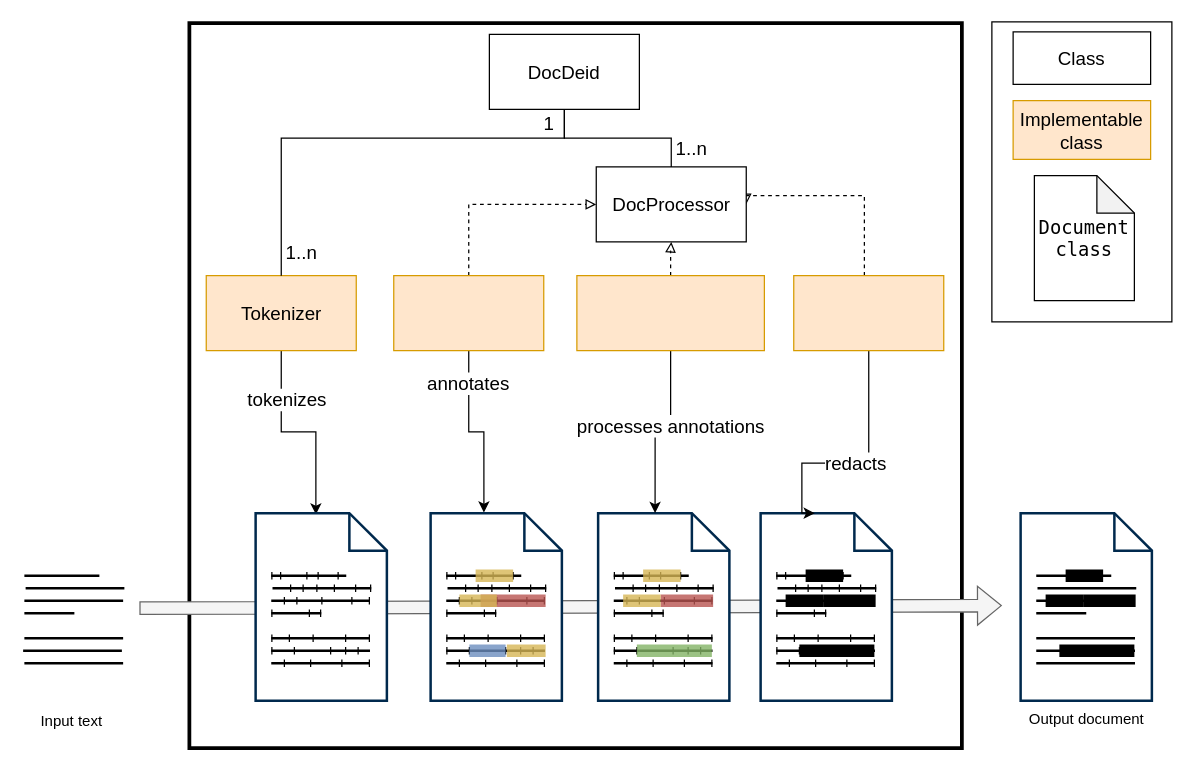
Some shapes in this 1194 by 771 pixel diagram are drawn without their labels. The shapes that lost their labels are listed below. From the top down, each one's centre as x and y in pixels, then its label:
At (468,312): "Annotator".
At (670,312): "AnnotationProcessor".
At (868,312): "Redactor".
